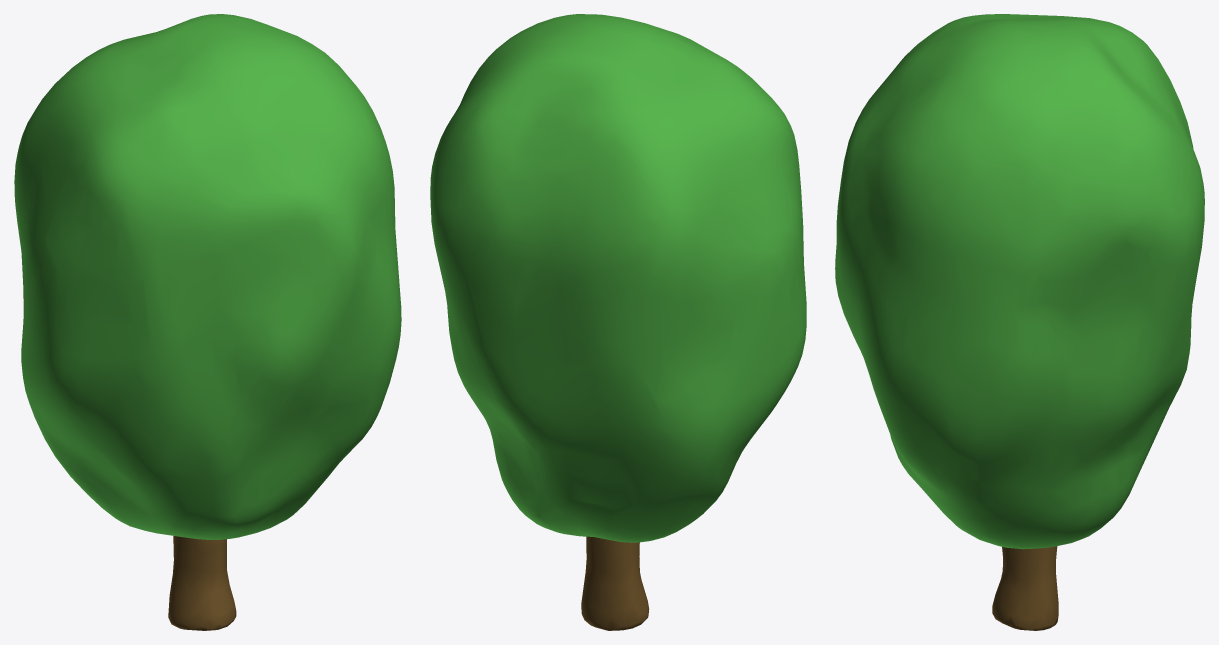
Rendered from tree.glb.
3 renders of one model, left to right at view 1: azimuth 30°, elevation 25°; view 2: azimuth 150°, elevation 25°; view 3: azimuth 270°, elevation 25°, orthographic. The views are drawn at different scales.
Visible parts, largest first — view 1: Sphere.001, Cylinder.002; view 2: Sphere.001, Cylinder.002; view 3: Sphere.001, Cylinder.002.
Part boxes in pixels (x1,y1,x2,y2): Sphere.001: (14,14,401,539); Cylinder.002: (168,536,236,630); Sphere.001: (430,14,806,542); Cylinder.002: (581,536,649,630); Sphere.001: (835,14,1204,549); Cylinder.002: (992,546,1058,630).
Bounding box in the file's own units: 1.2 × 2.02 × 1.13.
